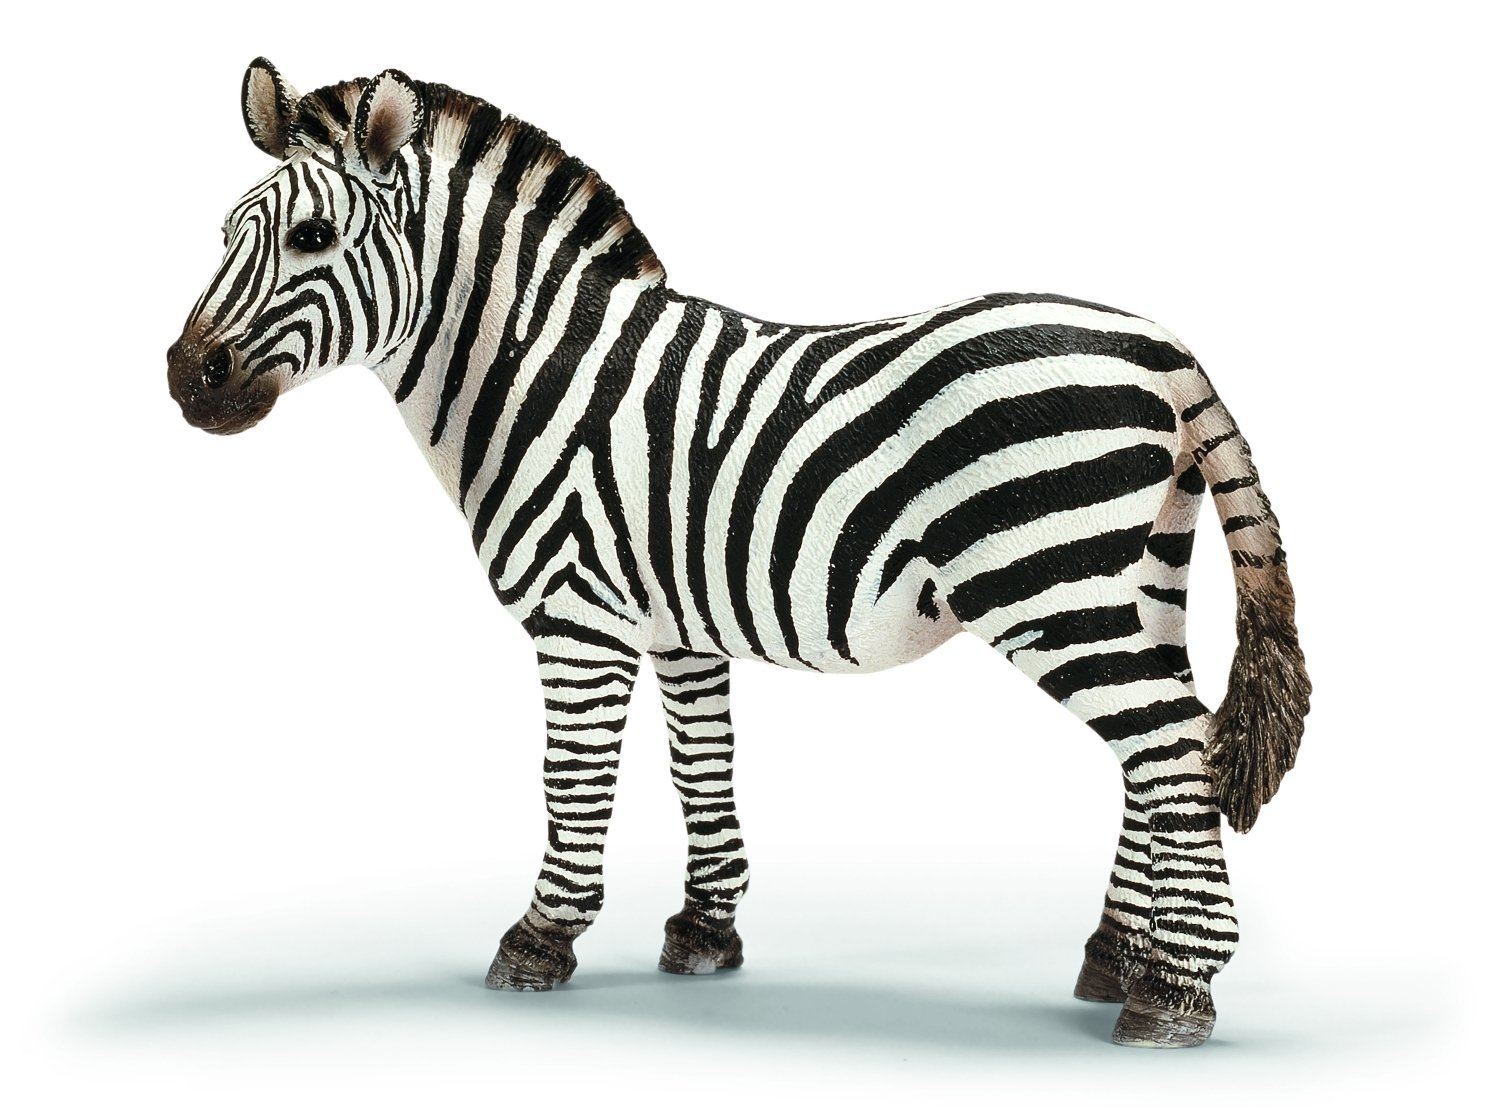zebra: (155, 52, 1336, 1062)
